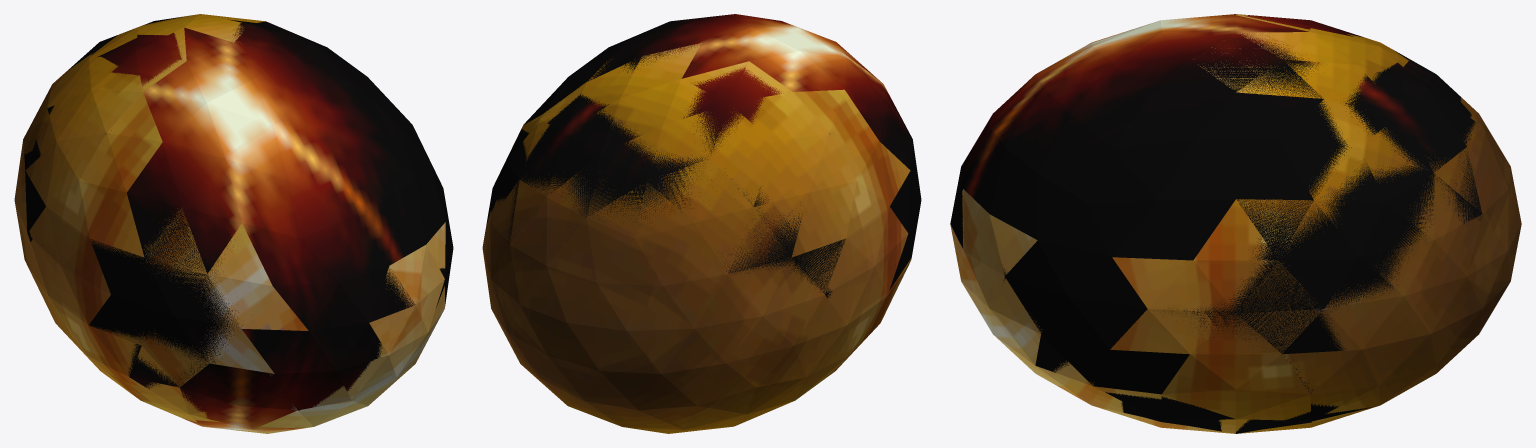
Rendered from mon_caidan.obj.
The picture shows the model from 3 angles, left to right: view 1: azimuth 30°, elevation 25°; view 2: azimuth 150°, elevation 25°; view 3: azimuth 270°, elevation 25°; orthographic projection. The views are drawn at different scales.
Parts seen in each view (by area): view 1: mon_caidan-zheng, mon_caidan10, mon_caidan4, mon_caidan, mon_caidan1, mon_caidan2, mon_caidan5; view 2: mon_caidan, mon_caidan-zheng, mon_caidan10; view 3: mon_caidan-zheng, mon_caidan, mon_caidan9, mon_caidan1, mon_caidan6.
Boxes of the visible parts, <box> form: mon_caidan-zheng: <box>24,17,453,431</box>; mon_caidan10: <box>25,72,162,324</box>; mon_caidan4: <box>89,208,308,387</box>; mon_caidan: <box>14,14,264,398</box>; mon_caidan1: <box>352,222,445,399</box>; mon_caidan2: <box>253,342,395,429</box>; mon_caidan5: <box>87,346,309,433</box>; mon_caidan: <box>482,43,908,433</box>; mon_caidan-zheng: <box>486,14,921,298</box>; mon_caidan10: <box>750,89,910,324</box>; mon_caidan-zheng: <box>950,14,1482,433</box>; mon_caidan: <box>1200,14,1521,433</box>; mon_caidan9: <box>1110,200,1361,420</box>; mon_caidan1: <box>950,189,1040,365</box>; mon_caidan6: <box>994,335,1235,433</box>.
Bounding box in the file's own units: 35.98 × 35.98 × 48.62.
Materials: 2 (2 with a texture image).
